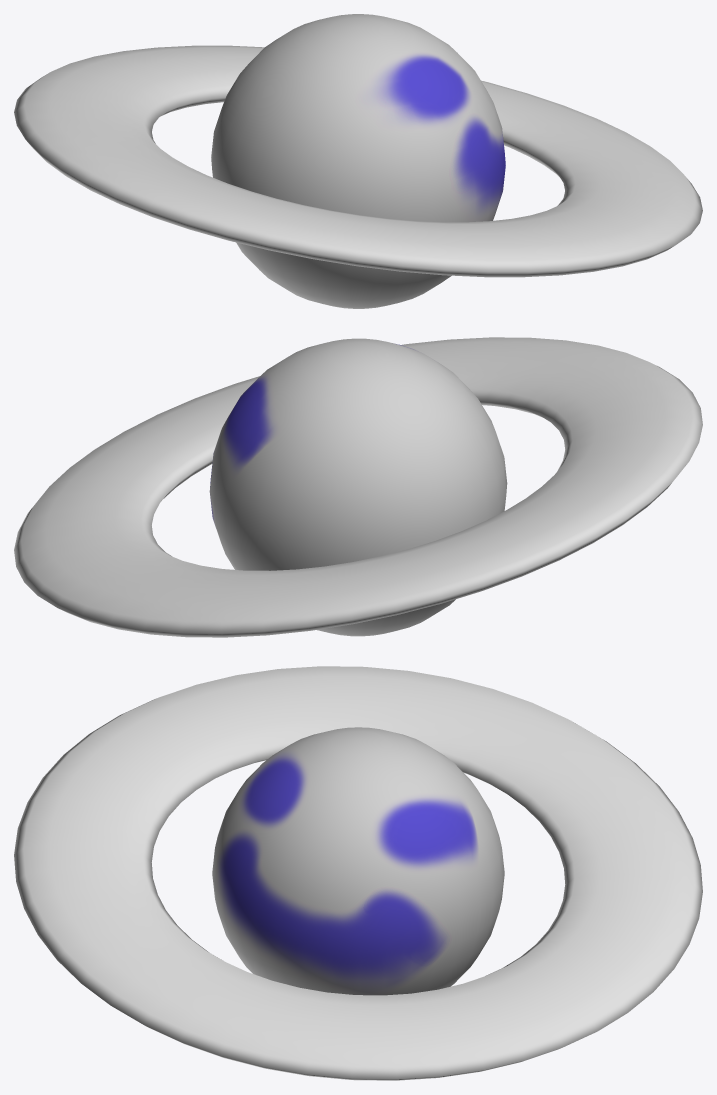
Rendered from idk.glb.
3 renders of one model, top to bottom at view 1: azimuth 30°, elevation 25°; view 2: azimuth 150°, elevation 25°; view 3: azimuth 270°, elevation 25°, orthographic.
Visible parts, largest first — view 1: Torus.001, Sphere; view 2: Torus.001, Sphere; view 3: Torus.001, Sphere.
Boxes of the visible parts, left/top/right/bottom form: Torus.001: left=14, top=45, right=702, bottom=277; Sphere: left=211, top=14, right=505, bottom=308; Torus.001: left=14, top=337, right=702, bottom=637; Sphere: left=209, top=338, right=507, bottom=636; Torus.001: left=14, top=666, right=702, bottom=1080; Sphere: left=212, top=727, right=504, bottom=995.
Size of the model in its own units: 4.62 by 2 by 4.71.
2 materials, 1 textured.
